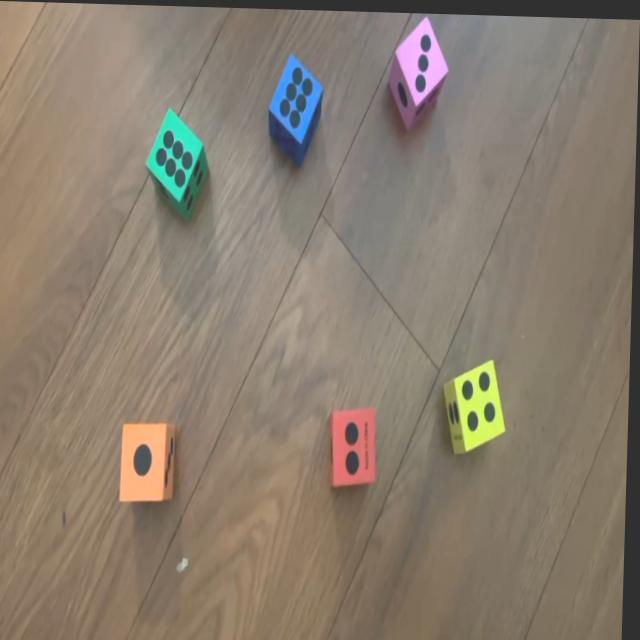blue_block: (269, 49, 327, 159)
red_block: (331, 407, 381, 487)
